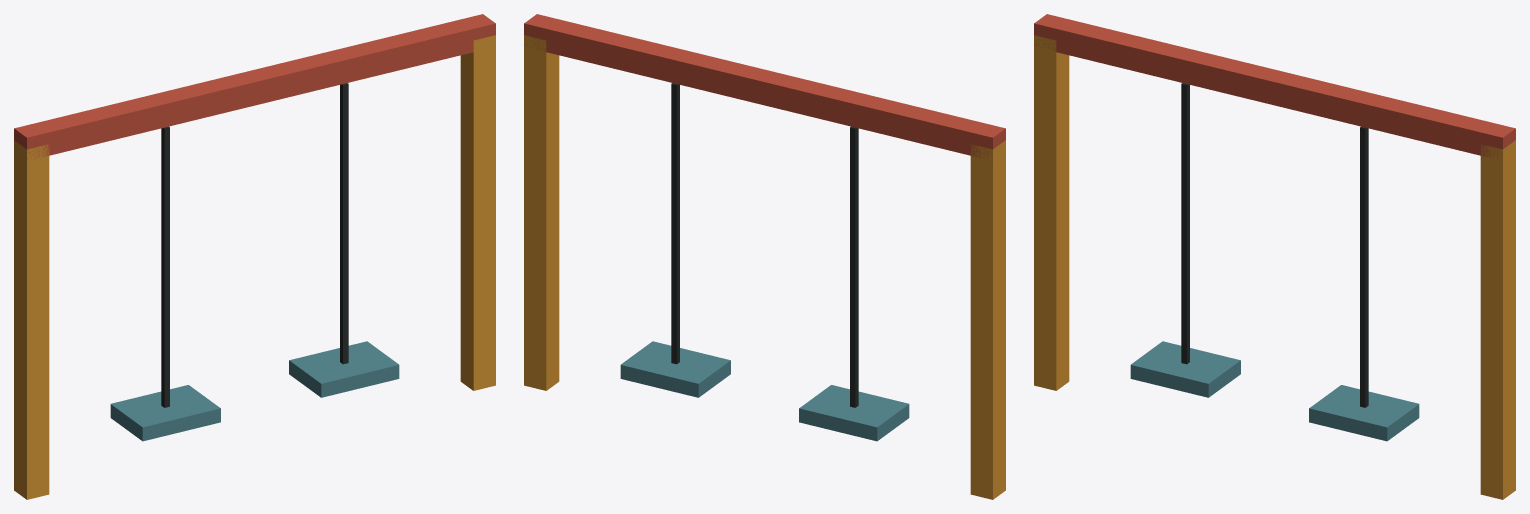
The model's file is playground.glb.
3 views of the same model, side by side, from view 1: azimuth 30°, elevation 25°; view 2: azimuth 150°, elevation 25°; view 3: azimuth 330°, elevation 25° (orthographic).
Visible parts, largest first — view 1: _MeshInstance3D_350, _MeshInstance3D_348, _MeshInstance3D_349, _MeshInstance3D_354, _MeshInstance3D_352, _MeshInstance3D_353, _MeshInstance3D_351; view 2: _MeshInstance3D_350, _MeshInstance3D_348, _MeshInstance3D_349, _MeshInstance3D_354, _MeshInstance3D_352, _MeshInstance3D_353, _MeshInstance3D_351; view 3: _MeshInstance3D_350, _MeshInstance3D_349, _MeshInstance3D_348, _MeshInstance3D_352, _MeshInstance3D_354, _MeshInstance3D_351, _MeshInstance3D_353.
Boxes of the visible parts, x1,y1,x2,y2 form: _MeshInstance3D_350: [14, 14, 495, 159]; _MeshInstance3D_348: [14, 140, 49, 499]; _MeshInstance3D_349: [460, 35, 495, 390]; _MeshInstance3D_354: [289, 341, 399, 397]; _MeshInstance3D_352: [110, 385, 220, 441]; _MeshInstance3D_353: [340, 83, 348, 364]; _MeshInstance3D_351: [161, 126, 169, 407]; _MeshInstance3D_350: [524, 14, 1005, 159]; _MeshInstance3D_348: [970, 140, 1005, 499]; _MeshInstance3D_349: [524, 35, 559, 390]; _MeshInstance3D_354: [620, 341, 730, 397]; _MeshInstance3D_352: [799, 385, 909, 441]; _MeshInstance3D_353: [671, 83, 679, 364]; _MeshInstance3D_351: [850, 126, 858, 407]; _MeshInstance3D_350: [1034, 14, 1515, 159]; _MeshInstance3D_349: [1480, 140, 1515, 499]; _MeshInstance3D_348: [1034, 35, 1069, 390]; _MeshInstance3D_352: [1130, 341, 1240, 397]; _MeshInstance3D_354: [1309, 385, 1419, 441]; _MeshInstance3D_351: [1181, 83, 1189, 364]; _MeshInstance3D_353: [1360, 126, 1368, 407].
Size of the model in its own units: 4.2 by 3.1 by 0.5.
